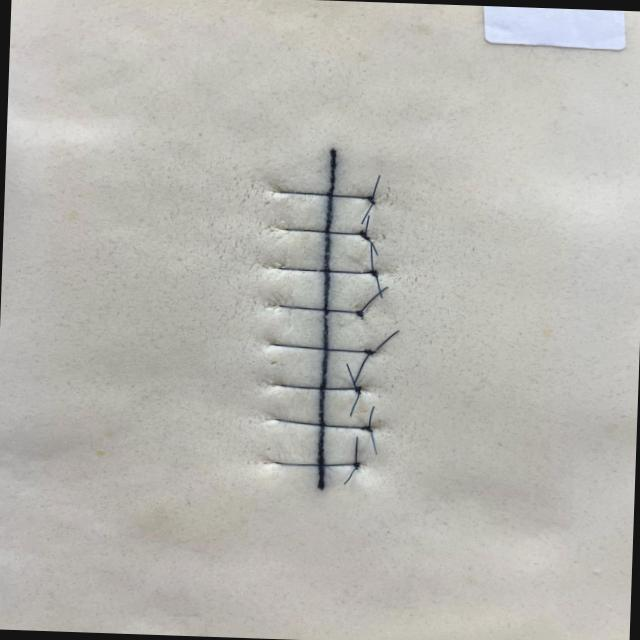knot: (357, 228, 373, 242), (364, 193, 378, 207), (358, 424, 375, 434), (361, 347, 378, 357), (366, 268, 381, 279), (351, 384, 364, 396), (353, 308, 367, 319), (349, 460, 362, 471)
leftover: (358, 285, 389, 313), (371, 328, 400, 353), (351, 351, 371, 385), (348, 388, 361, 417), (359, 200, 374, 225), (344, 362, 357, 389), (363, 236, 378, 256), (342, 466, 358, 484), (370, 173, 381, 199), (373, 273, 383, 299), (368, 428, 377, 455), (366, 404, 375, 429), (368, 241, 374, 273), (363, 213, 370, 235), (353, 435, 358, 464), (359, 312, 363, 320)
stitch: (267, 342, 372, 353), (273, 417, 369, 429), (278, 190, 374, 200), (276, 304, 361, 314), (274, 266, 375, 274), (283, 227, 365, 235), (277, 383, 360, 390), (272, 460, 360, 466)
wound: (318, 148, 336, 489)
